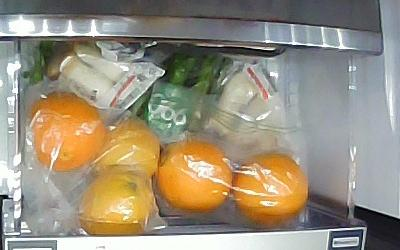orange_vinyl: (30, 89, 104, 174), (235, 152, 309, 228), (156, 140, 233, 212), (81, 170, 157, 237), (93, 118, 158, 181)
